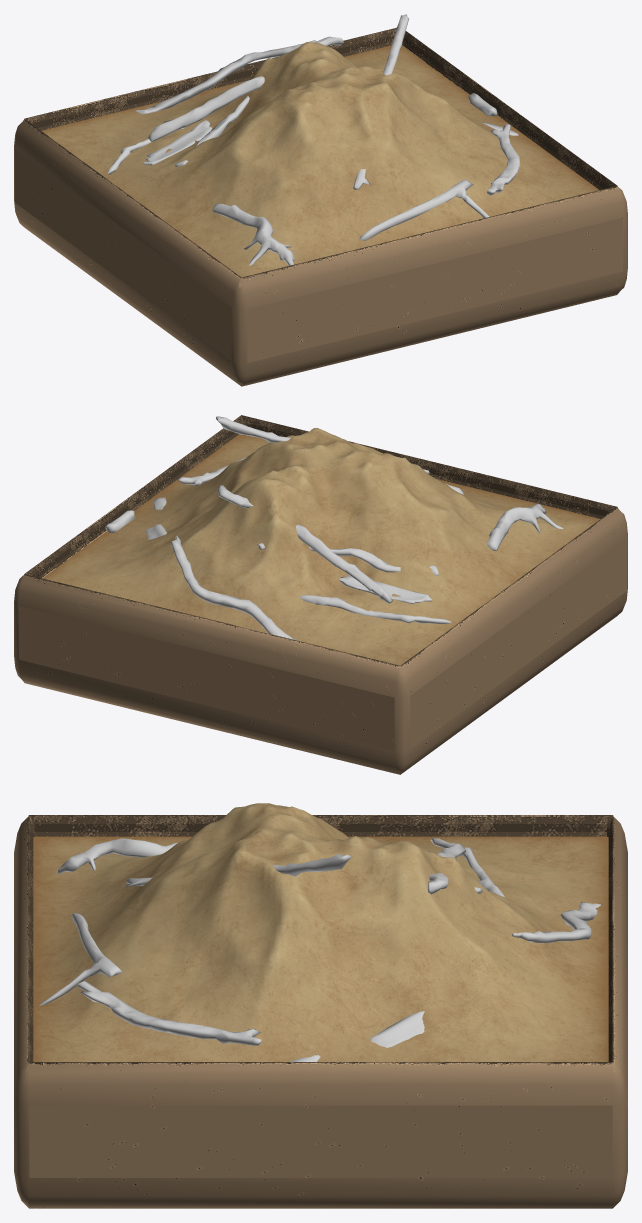
The model's file is Террейн2.fbx.
The picture shows the model from 3 angles, top to bottom: view 1: azimuth 30°, elevation 25°; view 2: azimuth 150°, elevation 25°; view 3: azimuth 270°, elevation 25°; orthographic projection. The views are drawn at different scales.
Visible parts, largest first — view 1: Cube, Landscape, Aset_tree_branch_T_qhxjsD_002_LOD0, Aset_tree_branch_T_qhxjsD_011_LOD0, Aset_tree_branch_T_qhxjsD_008_LOD0, Aset_tree_branch_T_qhxjsD_022_LOD0, Aset_tree_branch_T_qhxjsD_012_LOD0, Aset_tree_branch_T_qhxjsD_028_LOD0, Aset_tree_branch_T_qhxjsD_007_LOD0, Aset_tree_branch_T_qhxjsD_023_LOD0; view 2: Cube, Landscape, Aset_tree_branch_T_qhxjsD_008_LOD0, Aset_tree_branch_T_qhxjsD_002_LOD0, Aset_tree_branch_T_qhxjsD_011_LOD0, Aset_tree_branch_T_qhxjsD_029_LOD0, Aset_tree_branch_T_qhxjsD_028_LOD0, Aset_tree_branch_T_qhxjsD_023_LOD0, Aset_tree_branch_T_qhxjsD_007_LOD0; view 3: Landscape, Cube, Aset_tree_branch_T_qhxjsD_012_LOD0, Aset_tree_branch_T_qhxjsD_011_LOD0, Aset_tree_branch_T_qhxjsD_008_LOD0, Aset_tree_branch_T_qhxjsD_022_LOD0, Aset_tree_branch_T_qhxjsD_007_LOD0, Aset_tree_branch_T_qhxjsD_021_LOD0, Aset_tree_branch_T_qhxjsD_029_LOD0, Aset_tree_branch_T_qhxjsD_002_LOD0.
Boxes of the visible parts, x1,y1,x2,y2 form: Cube: (14, 28, 627, 386); Landscape: (41, 42, 599, 277); Aset_tree_branch_T_qhxjsD_002_LOD0: (148, 36, 343, 141); Aset_tree_branch_T_qhxjsD_011_LOD0: (212, 203, 294, 265); Aset_tree_branch_T_qhxjsD_008_LOD0: (135, 40, 316, 114); Aset_tree_branch_T_qhxjsD_022_LOD0: (359, 179, 489, 240); Aset_tree_branch_T_qhxjsD_012_LOD0: (487, 124, 520, 195); Aset_tree_branch_T_qhxjsD_028_LOD0: (143, 120, 212, 165); Aset_tree_branch_T_qhxjsD_007_LOD0: (353, 14, 408, 189); Aset_tree_branch_T_qhxjsD_023_LOD0: (175, 96, 249, 166); Cube: (14, 415, 627, 774); Landscape: (42, 428, 600, 665); Aset_tree_branch_T_qhxjsD_008_LOD0: (171, 535, 298, 640); Aset_tree_branch_T_qhxjsD_002_LOD0: (217, 485, 392, 603); Aset_tree_branch_T_qhxjsD_011_LOD0: (486, 503, 563, 550); Aset_tree_branch_T_qhxjsD_029_LOD0: (299, 595, 451, 623); Aset_tree_branch_T_qhxjsD_028_LOD0: (339, 575, 431, 604); Aset_tree_branch_T_qhxjsD_023_LOD0: (257, 543, 438, 575); Aset_tree_branch_T_qhxjsD_007_LOD0: (216, 416, 429, 473); Landscape: (33, 803, 608, 1061); Cube: (14, 815, 627, 1208); Aset_tree_branch_T_qhxjsD_012_LOD0: (76, 981, 261, 1045); Aset_tree_branch_T_qhxjsD_011_LOD0: (57, 838, 177, 874); Aset_tree_branch_T_qhxjsD_008_LOD0: (512, 902, 600, 943); Aset_tree_branch_T_qhxjsD_022_LOD0: (39, 913, 122, 1005); Aset_tree_branch_T_qhxjsD_007_LOD0: (125, 854, 352, 887); Aset_tree_branch_T_qhxjsD_021_LOD0: (370, 1011, 424, 1047); Aset_tree_branch_T_qhxjsD_029_LOD0: (431, 838, 504, 897); Aset_tree_branch_T_qhxjsD_002_LOD0: (427, 843, 465, 894).
Size of the model in its own units: 814 by 427 by 814.
